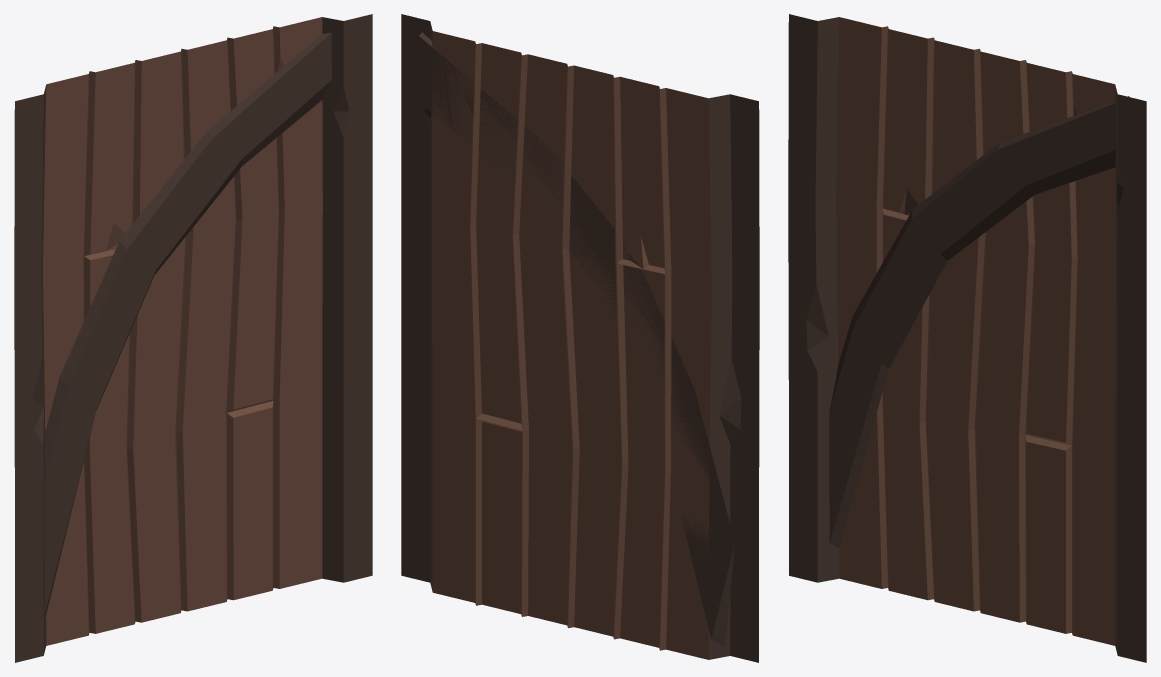
Rendered from LPHorror_2MWallG.fbx.
The picture shows the model from 3 angles, left to right: view 1: azimuth 30°, elevation 25°; view 2: azimuth 150°, elevation 25°; view 3: azimuth 330°, elevation 25°; orthographic projection.
Visible parts, largest first — view 1: 2MWallG; view 2: 2MWallG; view 3: 2MWallG.
Boxes of the visible parts, bbox=[...] form: 2MWallG: bbox=[14, 14, 372, 662]; 2MWallG: bbox=[401, 14, 759, 662]; 2MWallG: bbox=[788, 14, 1146, 662].
Size of the model in its own units: 200 by 300 by 11.85.
